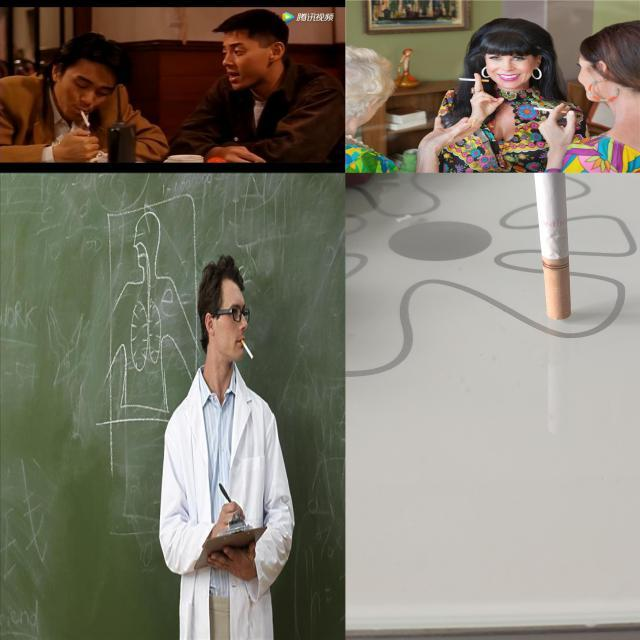smoking: (529, 172, 574, 320), (240, 338, 255, 362), (76, 108, 92, 127), (534, 107, 568, 114), (458, 78, 490, 82)
